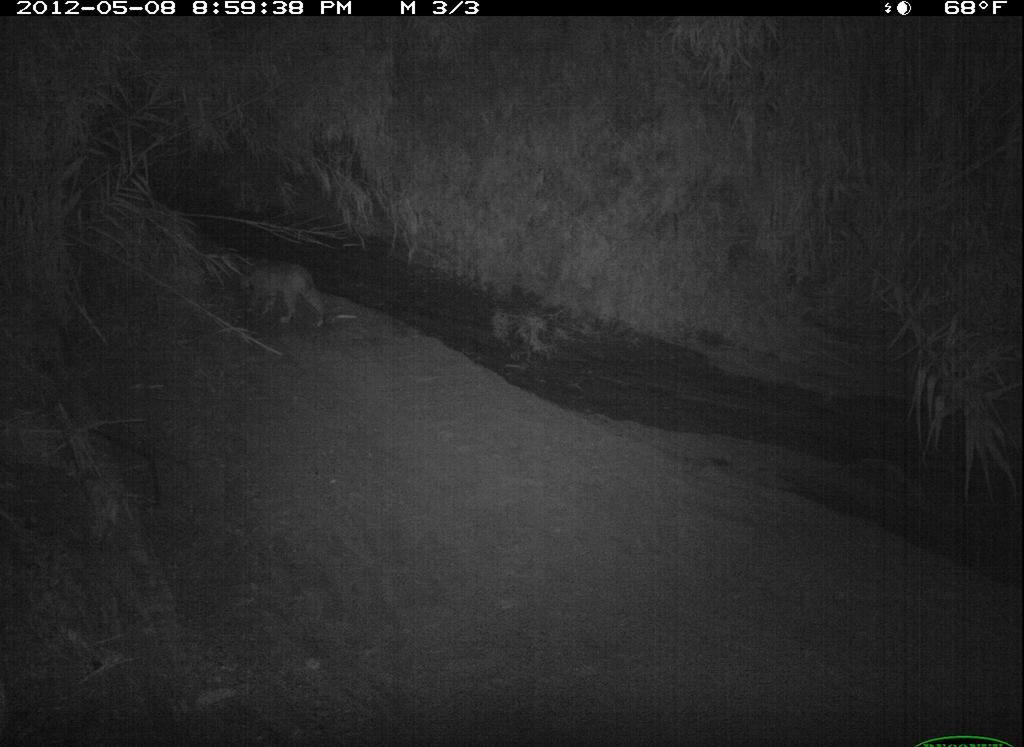bobcat: (470, 504, 666, 667)
